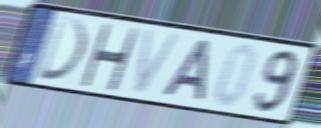0: (211, 41, 260, 110)
9: (252, 48, 301, 116)
A: (158, 37, 213, 104)
D: (35, 14, 92, 84)
H: (78, 21, 141, 94)
V: (130, 27, 185, 98)
